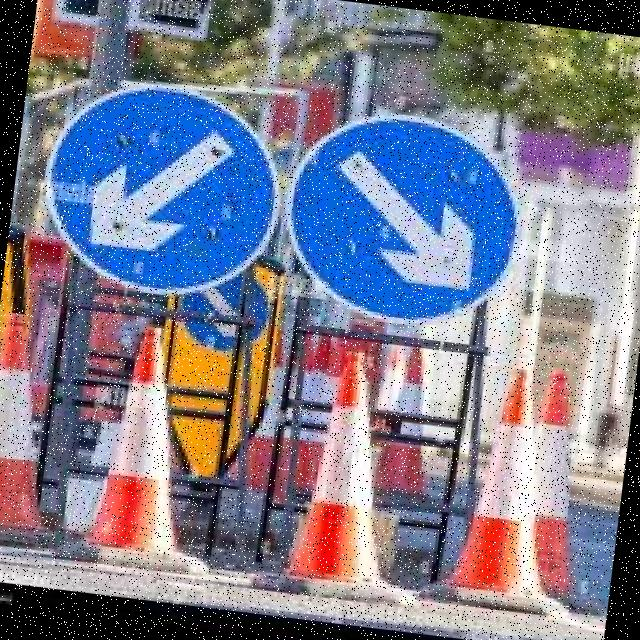compulsory_keep_right: (21, 60, 298, 313)
